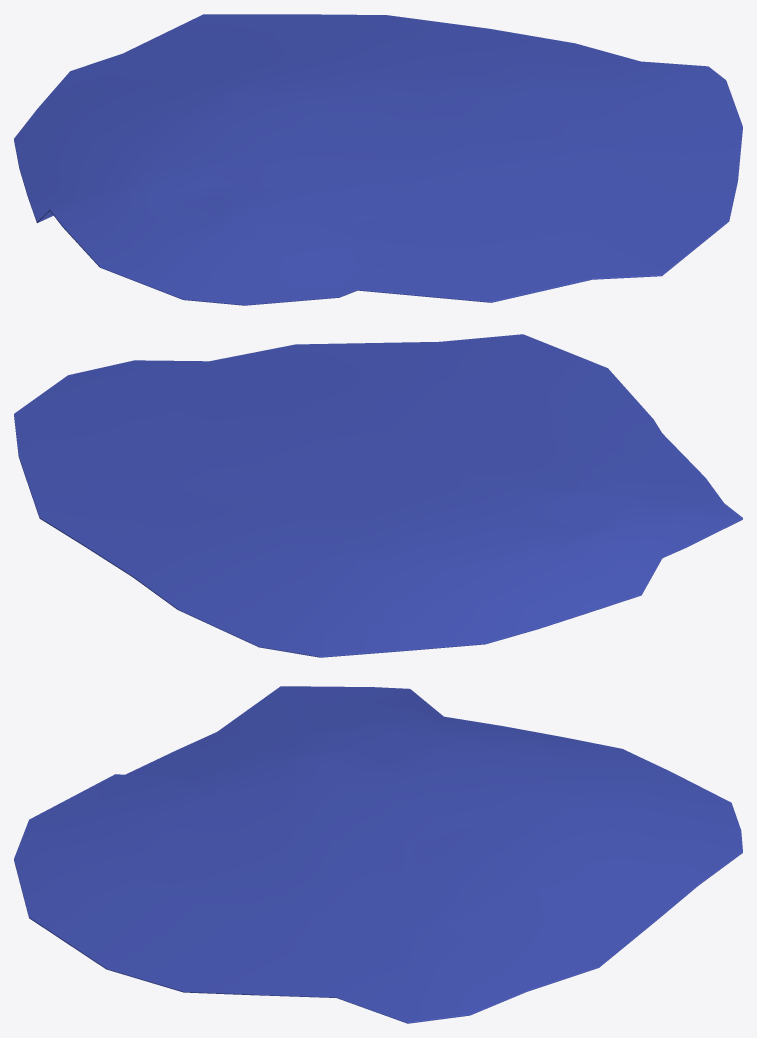
File: Floor_Break_03B_Lod0.fbx
3 views of the same model, one above another, from view 1: azimuth 30°, elevation 25°; view 2: azimuth 150°, elevation 25°; view 3: azimuth 270°, elevation 25° (orthographic).
Parts seen in each view (by area): view 1: Floor_Break_03B_Lod0; view 2: Floor_Break_03B_Lod0; view 3: Floor_Break_03B_Lod0.
Boxes of the visible parts, box(x1,y1,x2,y2) form: Floor_Break_03B_Lod0: box(14, 14, 742, 305); Floor_Break_03B_Lod0: box(14, 334, 742, 657); Floor_Break_03B_Lod0: box(14, 686, 742, 1023).
Size of the model in its own units: 418 by 18.97 by 397.
